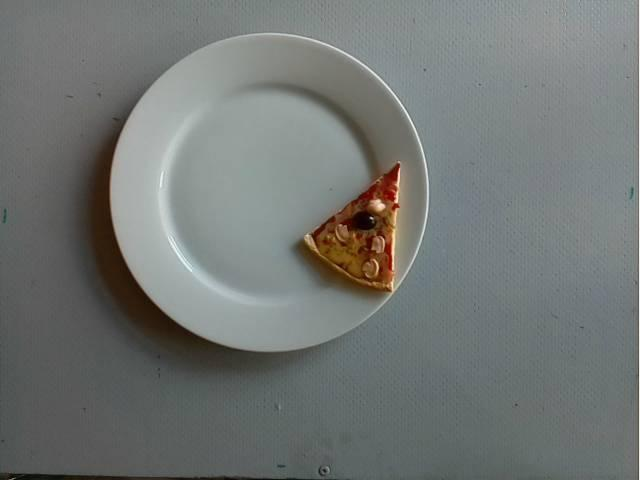Pizza slice (mushroom): (299, 159, 402, 295)
